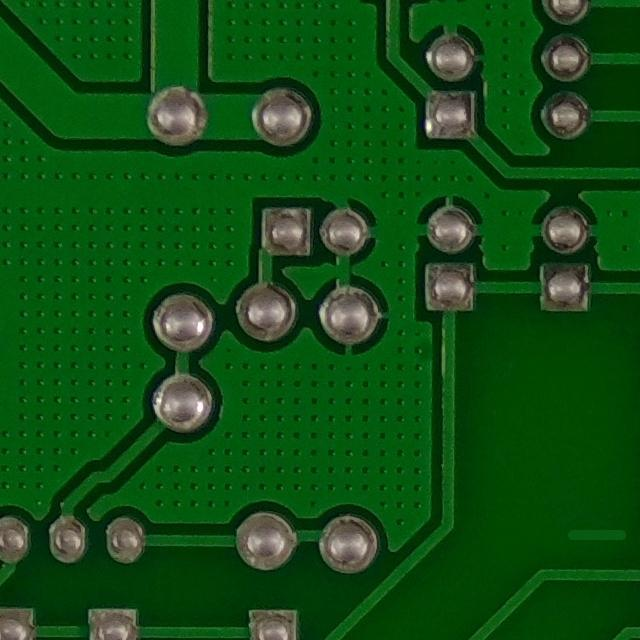spurious_copper: (559, 512, 631, 560)
